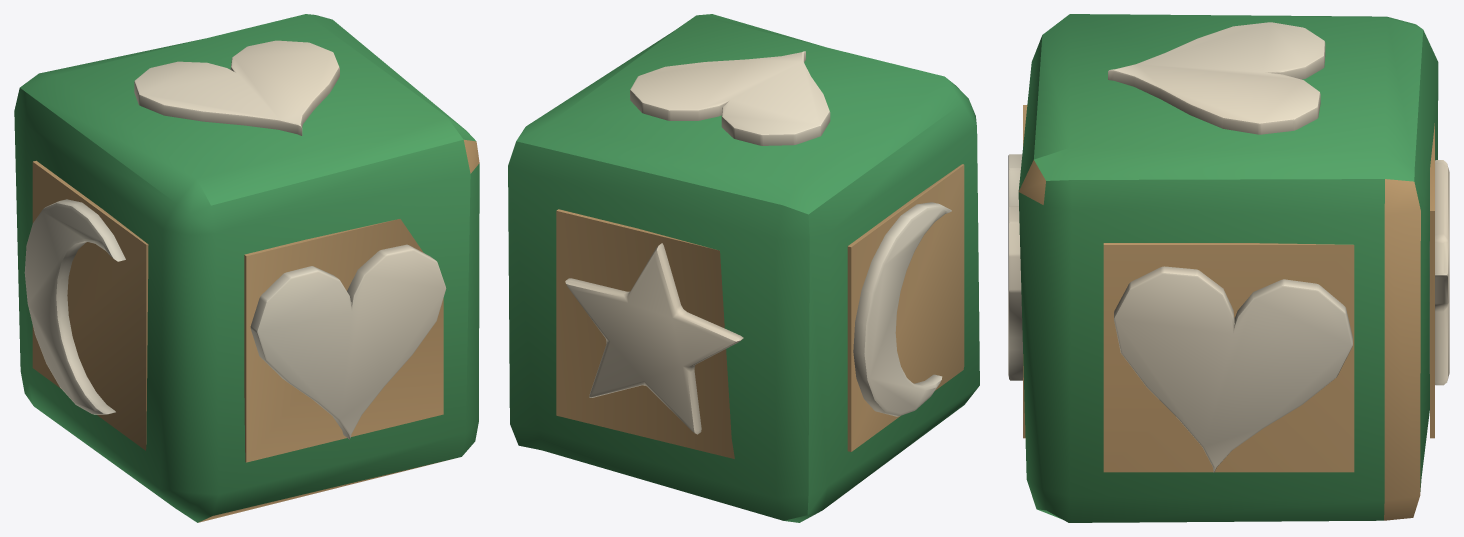
File: den_block_green.glb
3 renders of one model, left to right at view 1: azimuth 30°, elevation 25°; view 2: azimuth 150°, elevation 25°; view 3: azimuth 270°, elevation 25°, orthographic. The views are drawn at different scales.
Visible parts, largest first — view 1: den_block_green; view 2: den_block_green; view 3: den_block_green.
Boxes of the visible parts, x1,y1,x2,y2 form: den_block_green: (14, 14, 479, 522); den_block_green: (508, 14, 979, 522); den_block_green: (1008, 14, 1449, 522).
Size of the model in its own units: 4.93 by 4.81 by 4.93.
